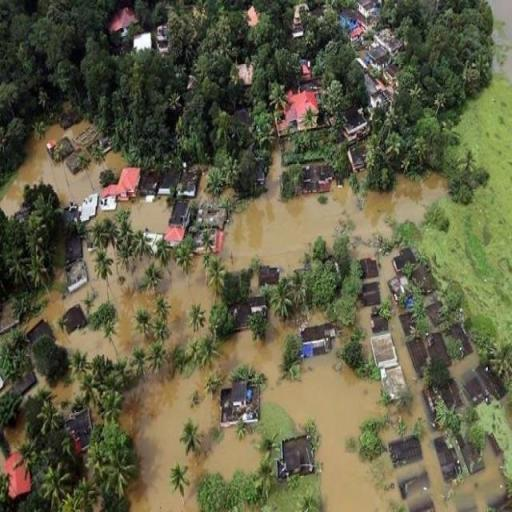flood: (125, 310, 512, 512), (218, 150, 448, 300), (26, 246, 114, 358), (0, 137, 102, 215), (161, 257, 213, 349), (110, 266, 155, 358), (119, 197, 170, 232)
house: (367, 328, 408, 393), (221, 374, 264, 426), (366, 28, 400, 92), (278, 428, 315, 480), (106, 4, 139, 54), (105, 163, 140, 207), (385, 434, 422, 472), (4, 451, 32, 500), (431, 436, 460, 483), (65, 407, 93, 448), (301, 324, 336, 356), (284, 90, 320, 121), (478, 362, 506, 400), (302, 165, 334, 195), (448, 322, 476, 356), (462, 438, 488, 474), (340, 108, 370, 139), (407, 335, 429, 375), (60, 304, 88, 334), (167, 198, 193, 226), (464, 371, 486, 403), (392, 248, 418, 274), (413, 266, 437, 294), (46, 136, 73, 159), (27, 320, 54, 342), (67, 148, 91, 172), (180, 171, 200, 199), (348, 145, 366, 173), (426, 302, 448, 324), (364, 282, 382, 308), (160, 170, 178, 196), (164, 226, 185, 247), (358, 1, 381, 20), (360, 258, 378, 280), (388, 275, 408, 294), (260, 267, 280, 284)
